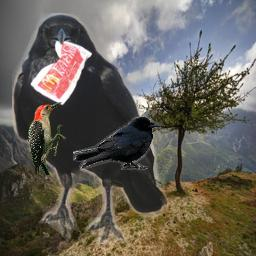Crow: (12, 13, 169, 244), (73, 116, 161, 170)
Woodpecker: (28, 102, 67, 175)
